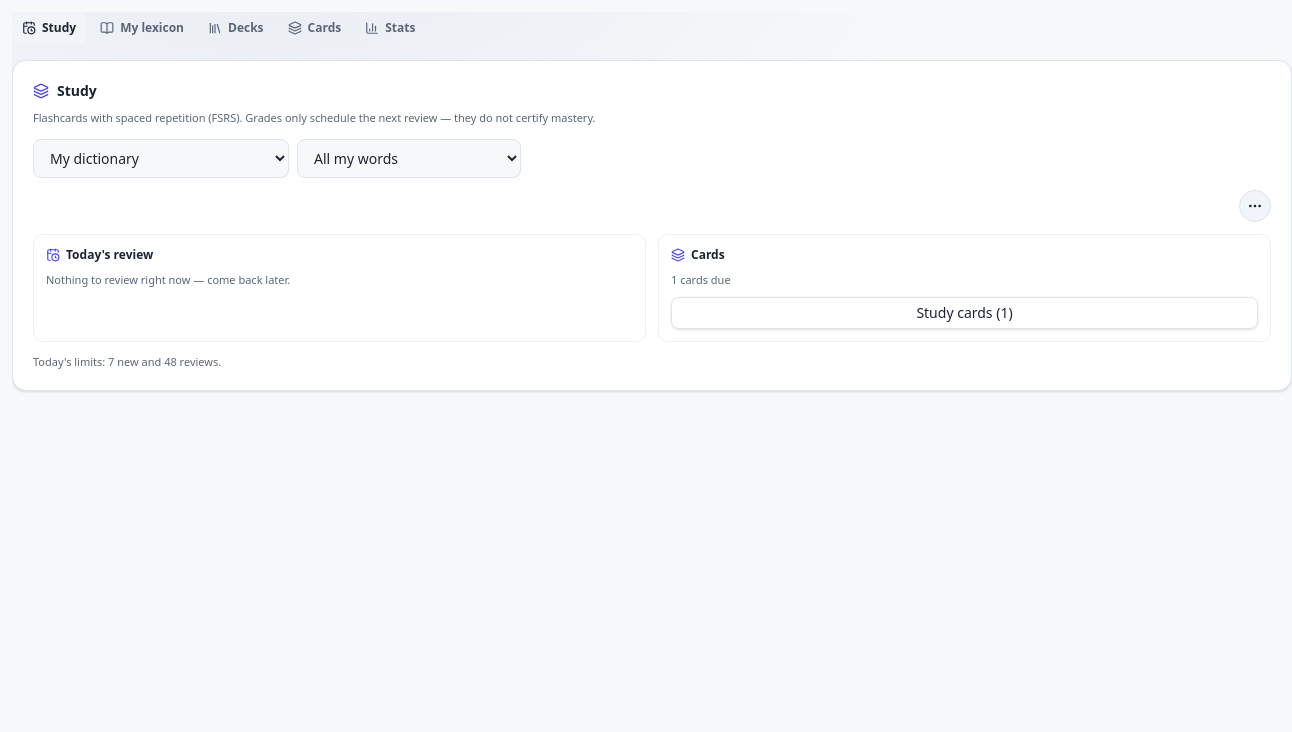
Test case: FlashcardsScreen › el panel de estudio arranca plegado y se despliega con el «...»
Check: the field labelled "Mode" is not shown
Step 1. Click the button named "Study settings" → coordinates (1255, 206), box [1239,190,1271,222]
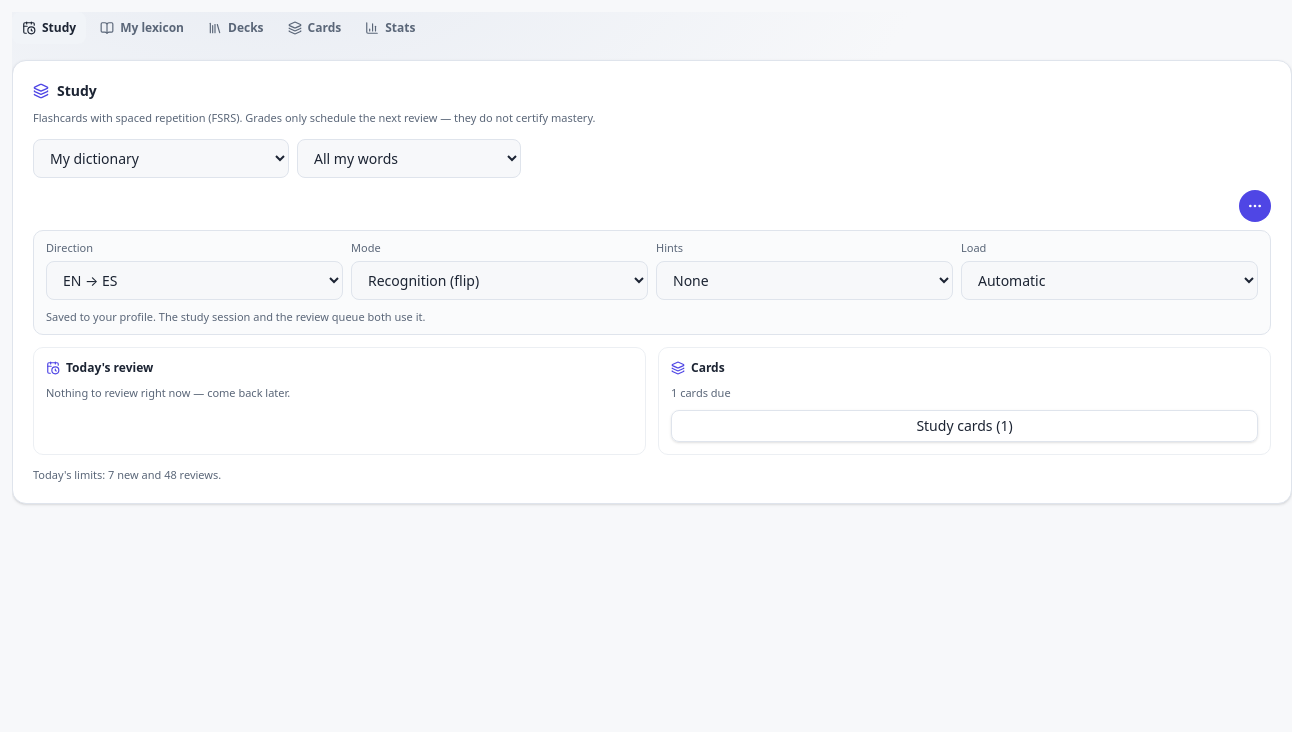
Check: the button named "Study settings" is expanded
Check: the dropdown labelled "Mode" is shown, box [351,261,648,300]
Note: Y se vuelve a plegar.
Step 2. Click the button named "Study settings" → coordinates (1255, 206), box [1239,190,1271,222]
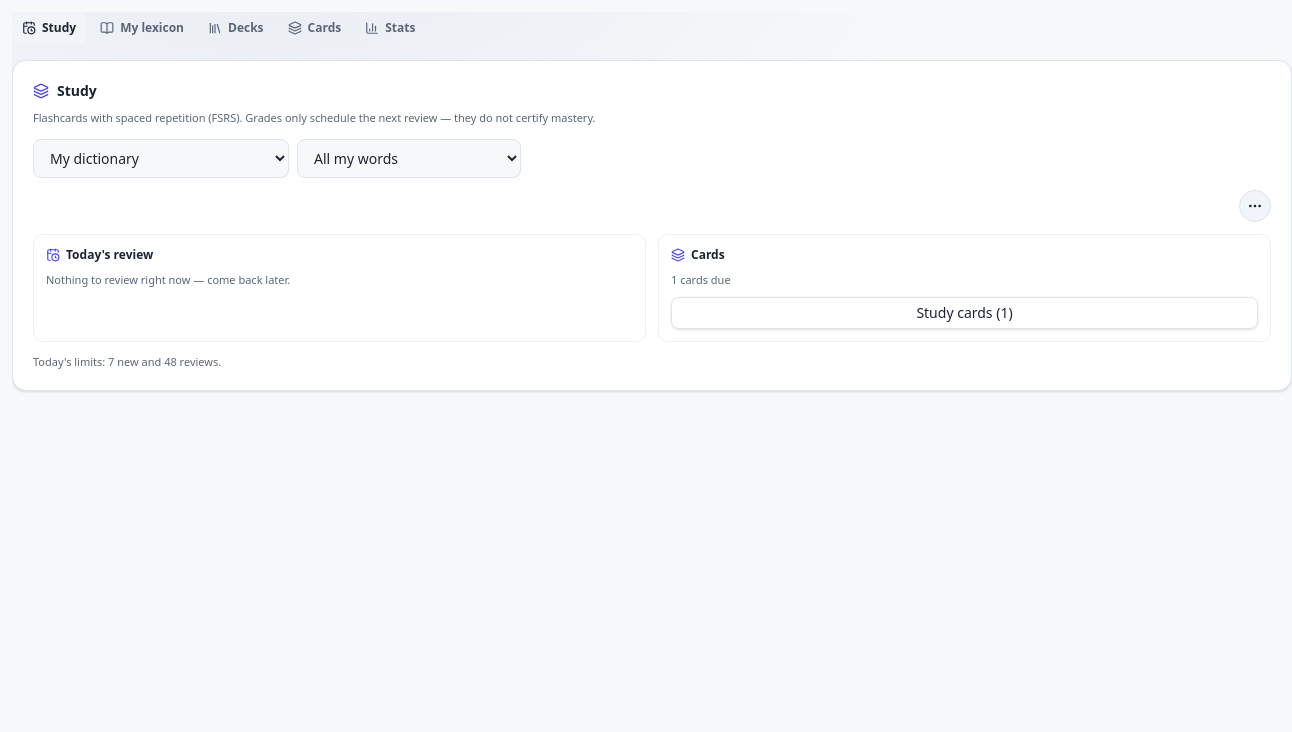
Check: the button named "Study settings" is collapsed, box [1239,190,1271,222]
Check: the label labelled "Mode" is gone
